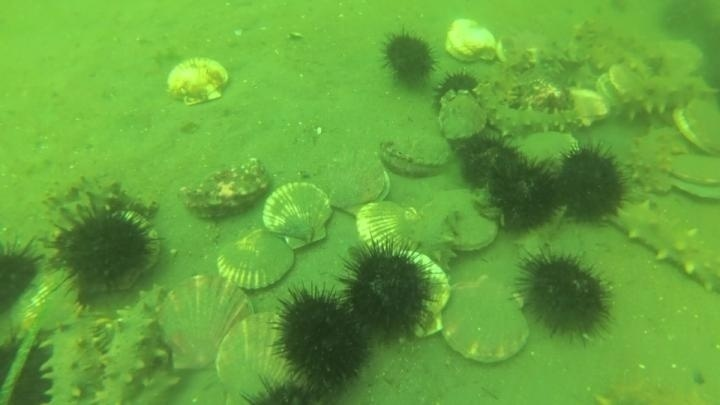echinus: (48, 208, 164, 313), (269, 283, 374, 396), (336, 239, 450, 343), (512, 247, 617, 344), (484, 156, 564, 236), (552, 142, 630, 224), (453, 128, 528, 194), (1, 331, 57, 405), (378, 28, 439, 89), (1, 236, 43, 317), (434, 89, 489, 145), (240, 373, 329, 405), (658, 1, 718, 44), (431, 69, 480, 113)
holothurian: (610, 197, 720, 295), (94, 285, 175, 405), (37, 306, 114, 405), (45, 172, 160, 227), (570, 18, 667, 79), (608, 80, 714, 134), (487, 101, 592, 142), (627, 124, 685, 198), (541, 45, 608, 93)
scallop: (332, 245, 448, 349), (151, 274, 255, 377), (212, 310, 311, 404), (437, 278, 532, 368), (6, 265, 86, 343), (304, 145, 392, 215), (213, 225, 297, 294), (417, 190, 501, 257), (259, 180, 336, 251), (396, 248, 450, 342), (351, 198, 428, 259), (376, 128, 453, 181), (163, 55, 232, 108), (513, 128, 581, 179), (658, 150, 720, 205), (671, 93, 720, 159), (442, 17, 506, 67), (434, 90, 490, 145), (646, 36, 707, 81), (594, 61, 651, 108), (564, 84, 612, 128), (501, 32, 540, 71)
